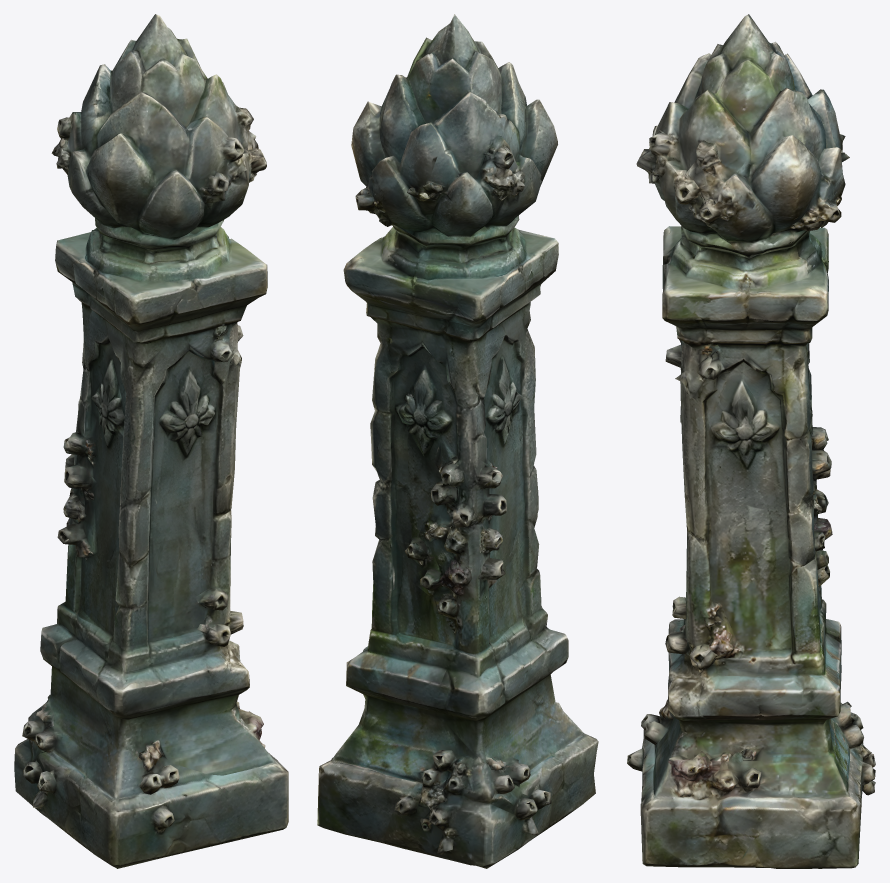
File: T20_post_lo.glb
The picture shows the model from 3 angles, left to right: view 1: azimuth 30°, elevation 25°; view 2: azimuth 150°, elevation 25°; view 3: azimuth 270°, elevation 25°; orthographic projection. The views are drawn at different scales.
Visible parts, largest first — view 1: tripo_node_f17dde0f-505c-4ad3-9ea7-29b75c83d854; view 2: tripo_node_f17dde0f-505c-4ad3-9ea7-29b75c83d854; view 3: tripo_node_f17dde0f-505c-4ad3-9ea7-29b75c83d854.
Part boxes in pixels (left/top/right/bottom): tripo_node_f17dde0f-505c-4ad3-9ea7-29b75c83d854: left=14, top=14, right=288, bottom=868; tripo_node_f17dde0f-505c-4ad3-9ea7-29b75c83d854: left=317, top=14, right=598, bottom=868; tripo_node_f17dde0f-505c-4ad3-9ea7-29b75c83d854: left=627, top=14, right=875, bottom=868.
Bounding box in the file's own units: 0.2541 × 0.9772 × 0.2709.
Materials: 1 (1 with a texture image).
